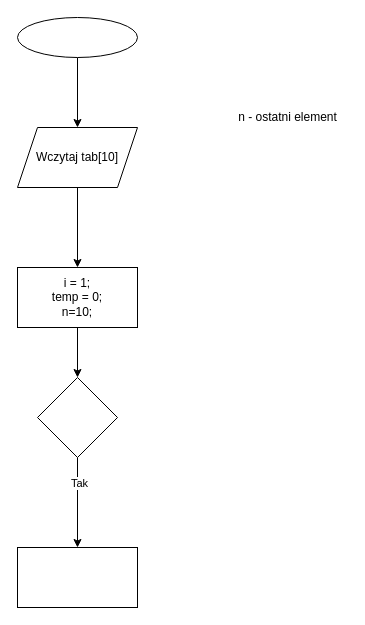
The diagram is 365 pixels wide and 625 high, and some of its shapes have lost their labels. Each missing label, with the centre of its shape:
i < 10: the point at 77,417
START: the point at 77,37
